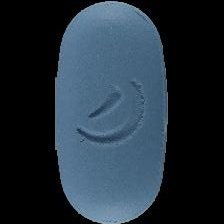43063-498: (0, 0, 224, 224)
